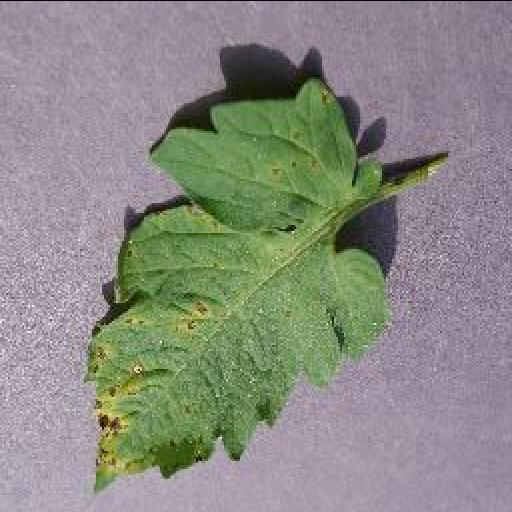disease_tomato: (85, 84, 383, 493)
